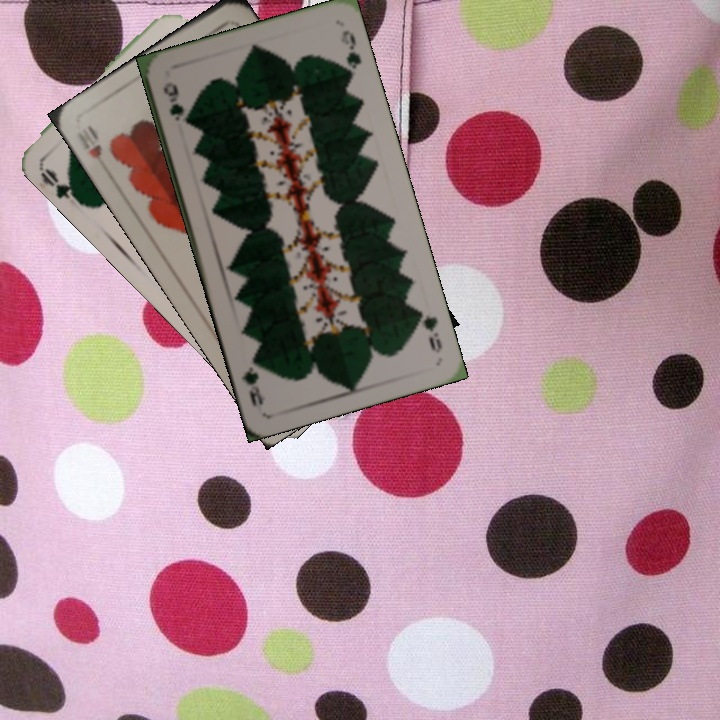G9: (411, 304, 445, 356), (159, 77, 187, 124)
GO: (36, 163, 83, 207)
H10: (73, 121, 113, 176)
